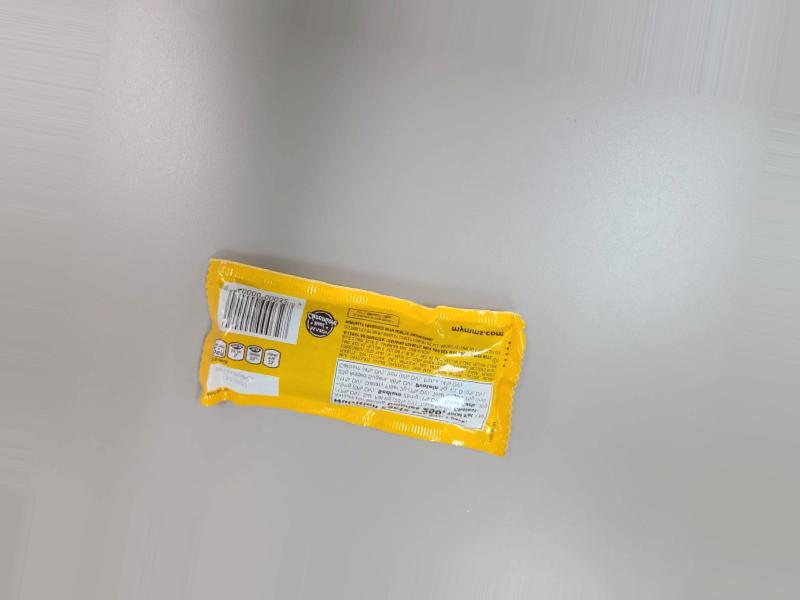m&m: (158, 239, 523, 465)
